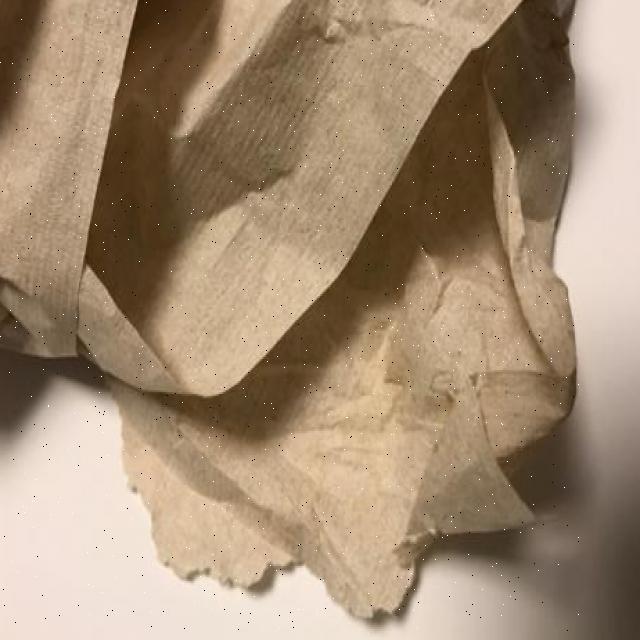paper: (0, 0, 579, 631)
